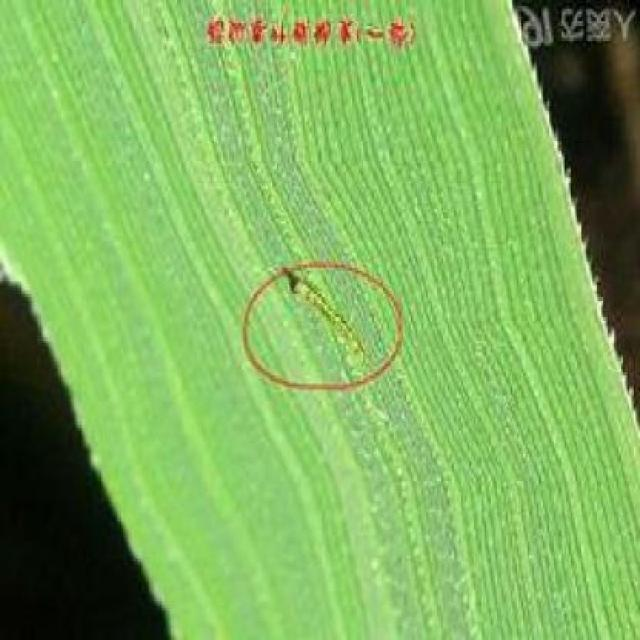leaf-folder: (275, 256, 391, 369)
